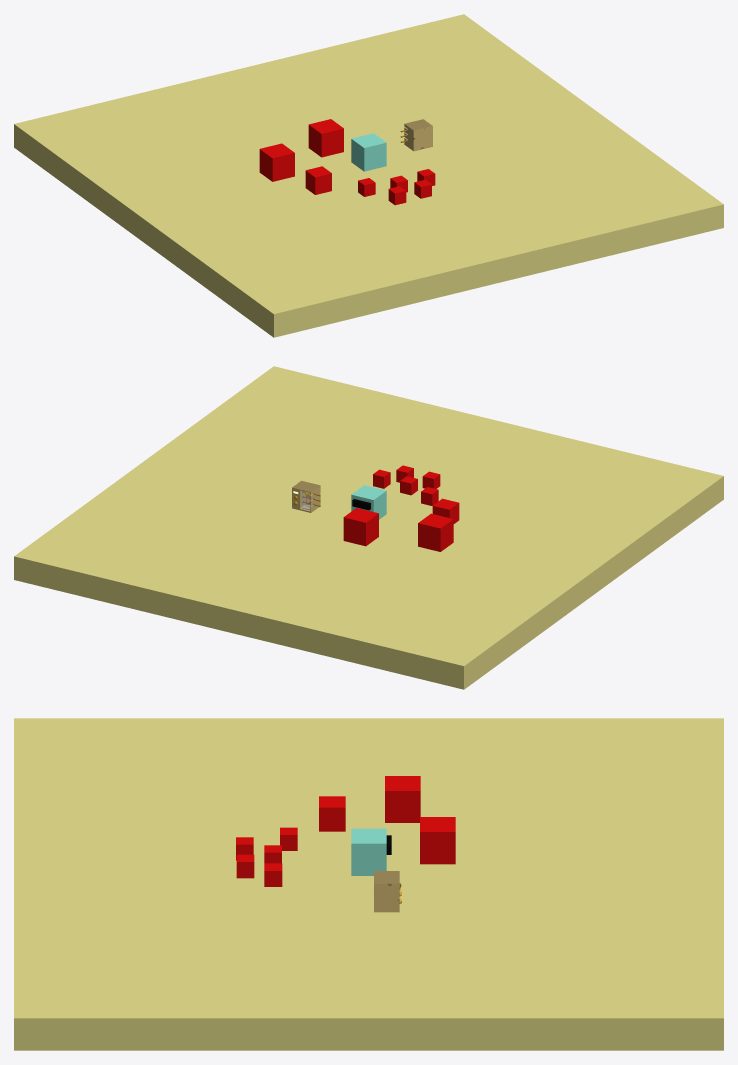
The model's file is interaction_test.glb.
The picture shows the model from 3 angles, top to bottom: view 1: azimuth 30°, elevation 25°; view 2: azimuth 150°, elevation 25°; view 3: azimuth 270°, elevation 25°; orthographic projection. The views are drawn at different scales.
Visible parts, largest first — view 1: Floor, Player, Interactable.001, Interactable, Machine Body, Interactable.002; view 2: Floor, Interactable, Interactable.001, Player, Machine Body; view 3: Floor, Player, Interactable, Interactable.001, Machine Body, Interactable.002.
Boxes of the visible parts, x1=… form: Floor: x1=14, y1=14, x2=723, y2=337; Player: x1=351, y1=133, x2=386, y2=171; Interactable.001: x1=259, y1=143, x2=294, y2=181; Interactable: x1=308, y1=119, x2=343, y2=157; Machine Body: x1=404, y1=119, x2=432, y2=151; Interactable.002: x1=305, y1=166, x2=331, y2=194; Floor: x1=14, y1=366, x2=723, y2=689; Interactable: x1=343, y1=508, x2=378, y2=546; Interactable.001: x1=418, y1=513, x2=453, y2=551; Player: x1=351, y1=485, x2=386, y2=519; Machine Body: x1=292, y1=480, x2=320, y2=512; Floor: x1=14, y1=718, x2=723, y2=1050; Player: x1=351, y1=828, x2=391, y2=875; Interactable: x1=420, y1=817, x2=455, y2=864; Interactable.001: x1=385, y1=776, x2=420, y2=822; Machine Body: x1=374, y1=871, x2=399, y2=912; Interactable.002: x1=319, y1=796, x2=345, y2=831.
Bounding box in the file's own units: 20 × 2 × 20.
